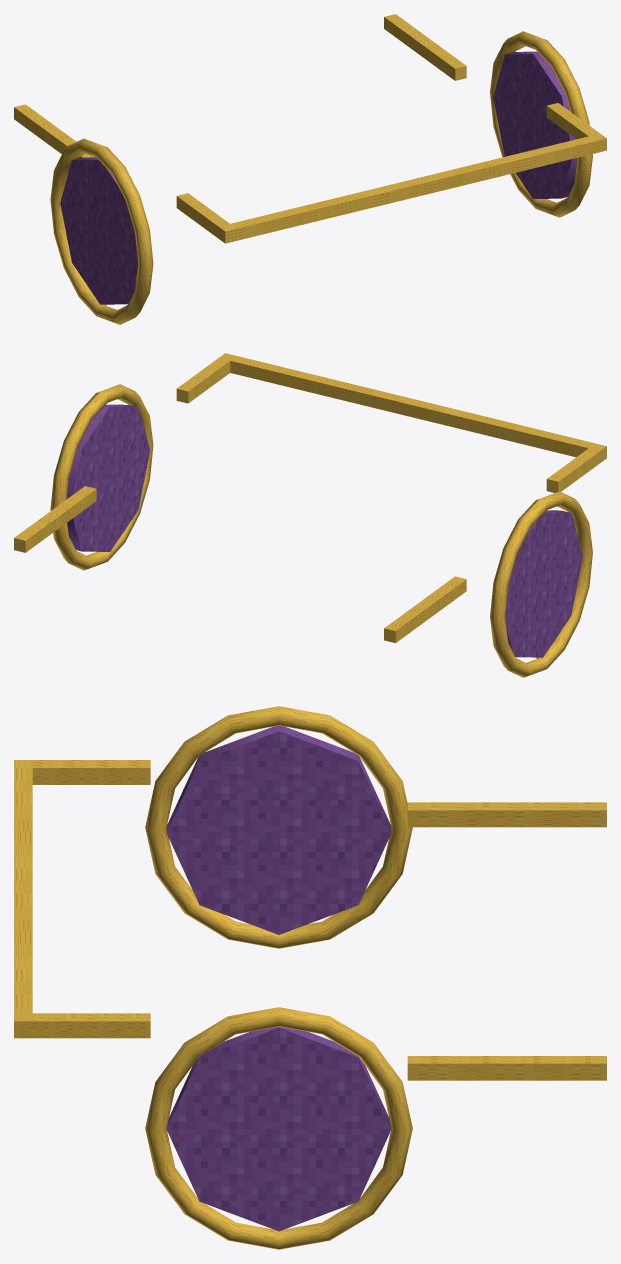
The model's file is lentes_redondos.glb.
The picture shows the model from 3 angles, top to bottom: view 1: azimuth 30°, elevation 25°; view 2: azimuth 150°, elevation 25°; view 3: azimuth 270°, elevation 25°; orthographic projection. The views are drawn at different scales.
Visible parts, largest first — view 1: _MeshInstance3D_148, _MeshInstance3D_150, _MeshInstance3D_156, _MeshInstance3D_149, _MeshInstance3D_151, _MeshInstance3D_155, _MeshInstance3D_153, _MeshInstance3D_152, _MeshInstance3D_154; view 2: _MeshInstance3D_150, _MeshInstance3D_148, _MeshInstance3D_156, _MeshInstance3D_149, _MeshInstance3D_151, _MeshInstance3D_155, _MeshInstance3D_153, _MeshInstance3D_152, _MeshInstance3D_154; view 3: _MeshInstance3D_148, _MeshInstance3D_150, _MeshInstance3D_151, _MeshInstance3D_149, _MeshInstance3D_153, _MeshInstance3D_156, _MeshInstance3D_155, _MeshInstance3D_154, _MeshInstance3D_152.
Boxes of the visible parts, <box> form: _MeshInstance3D_148: <box>60,157,137,304</box>; _MeshInstance3D_150: <box>493,51,577,198</box>; _MeshInstance3D_156: <box>219,136,606,243</box>; _MeshInstance3D_149: <box>50,138,153,324</box>; _MeshInstance3D_151: <box>490,31,592,217</box>; _MeshInstance3D_155: <box>384,14,466,80</box>; _MeshInstance3D_153: <box>14,104,95,158</box>; _MeshInstance3D_152: <box>176,193,232,240</box>; _MeshInstance3D_154: <box>546,103,602,139</box>; _MeshInstance3D_150: <box>66,404,150,551</box>; _MeshInstance3D_148: <box>505,510,582,657</box>; _MeshInstance3D_156: <box>222,353,606,460</box>; _MeshInstance3D_149: <box>490,491,592,677</box>; _MeshInstance3D_151: <box>50,384,153,570</box>; _MeshInstance3D_155: <box>14,486,96,552</box>; _MeshInstance3D_153: <box>384,576,466,642</box>; _MeshInstance3D_152: <box>546,446,603,492</box>; _MeshInstance3D_154: <box>176,355,232,403</box>; _MeshInstance3D_148: <box>166,725,391,934</box>; _MeshInstance3D_150: <box>166,1026,391,1231</box>; _MeshInstance3D_151: <box>145,1007,412,1249</box>; _MeshInstance3D_149: <box>145,706,412,948</box>; _MeshInstance3D_153: <box>407,802,606,827</box>; _MeshInstance3D_156: <box>14,760,32,1038</box>; _MeshInstance3D_155: <box>407,1056,606,1080</box>; _MeshInstance3D_154: <box>23,1013,150,1038</box>; _MeshInstance3D_152: <box>23,760,150,784</box>.
Bounding box in the file's own units: 0.2729 × 0.1 × 0.2215.
2 materials, 2 textured.
